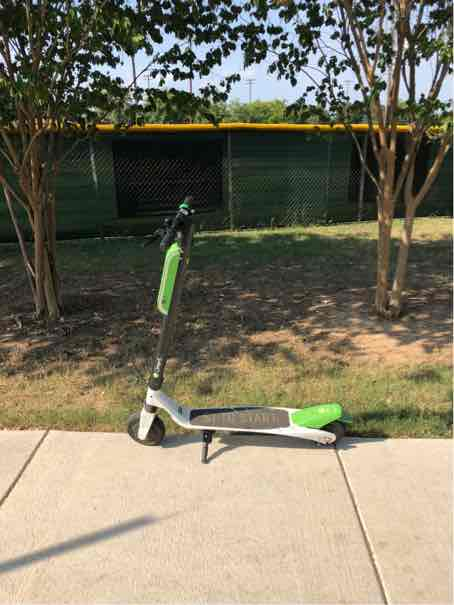scooter: (127, 174, 366, 447)
